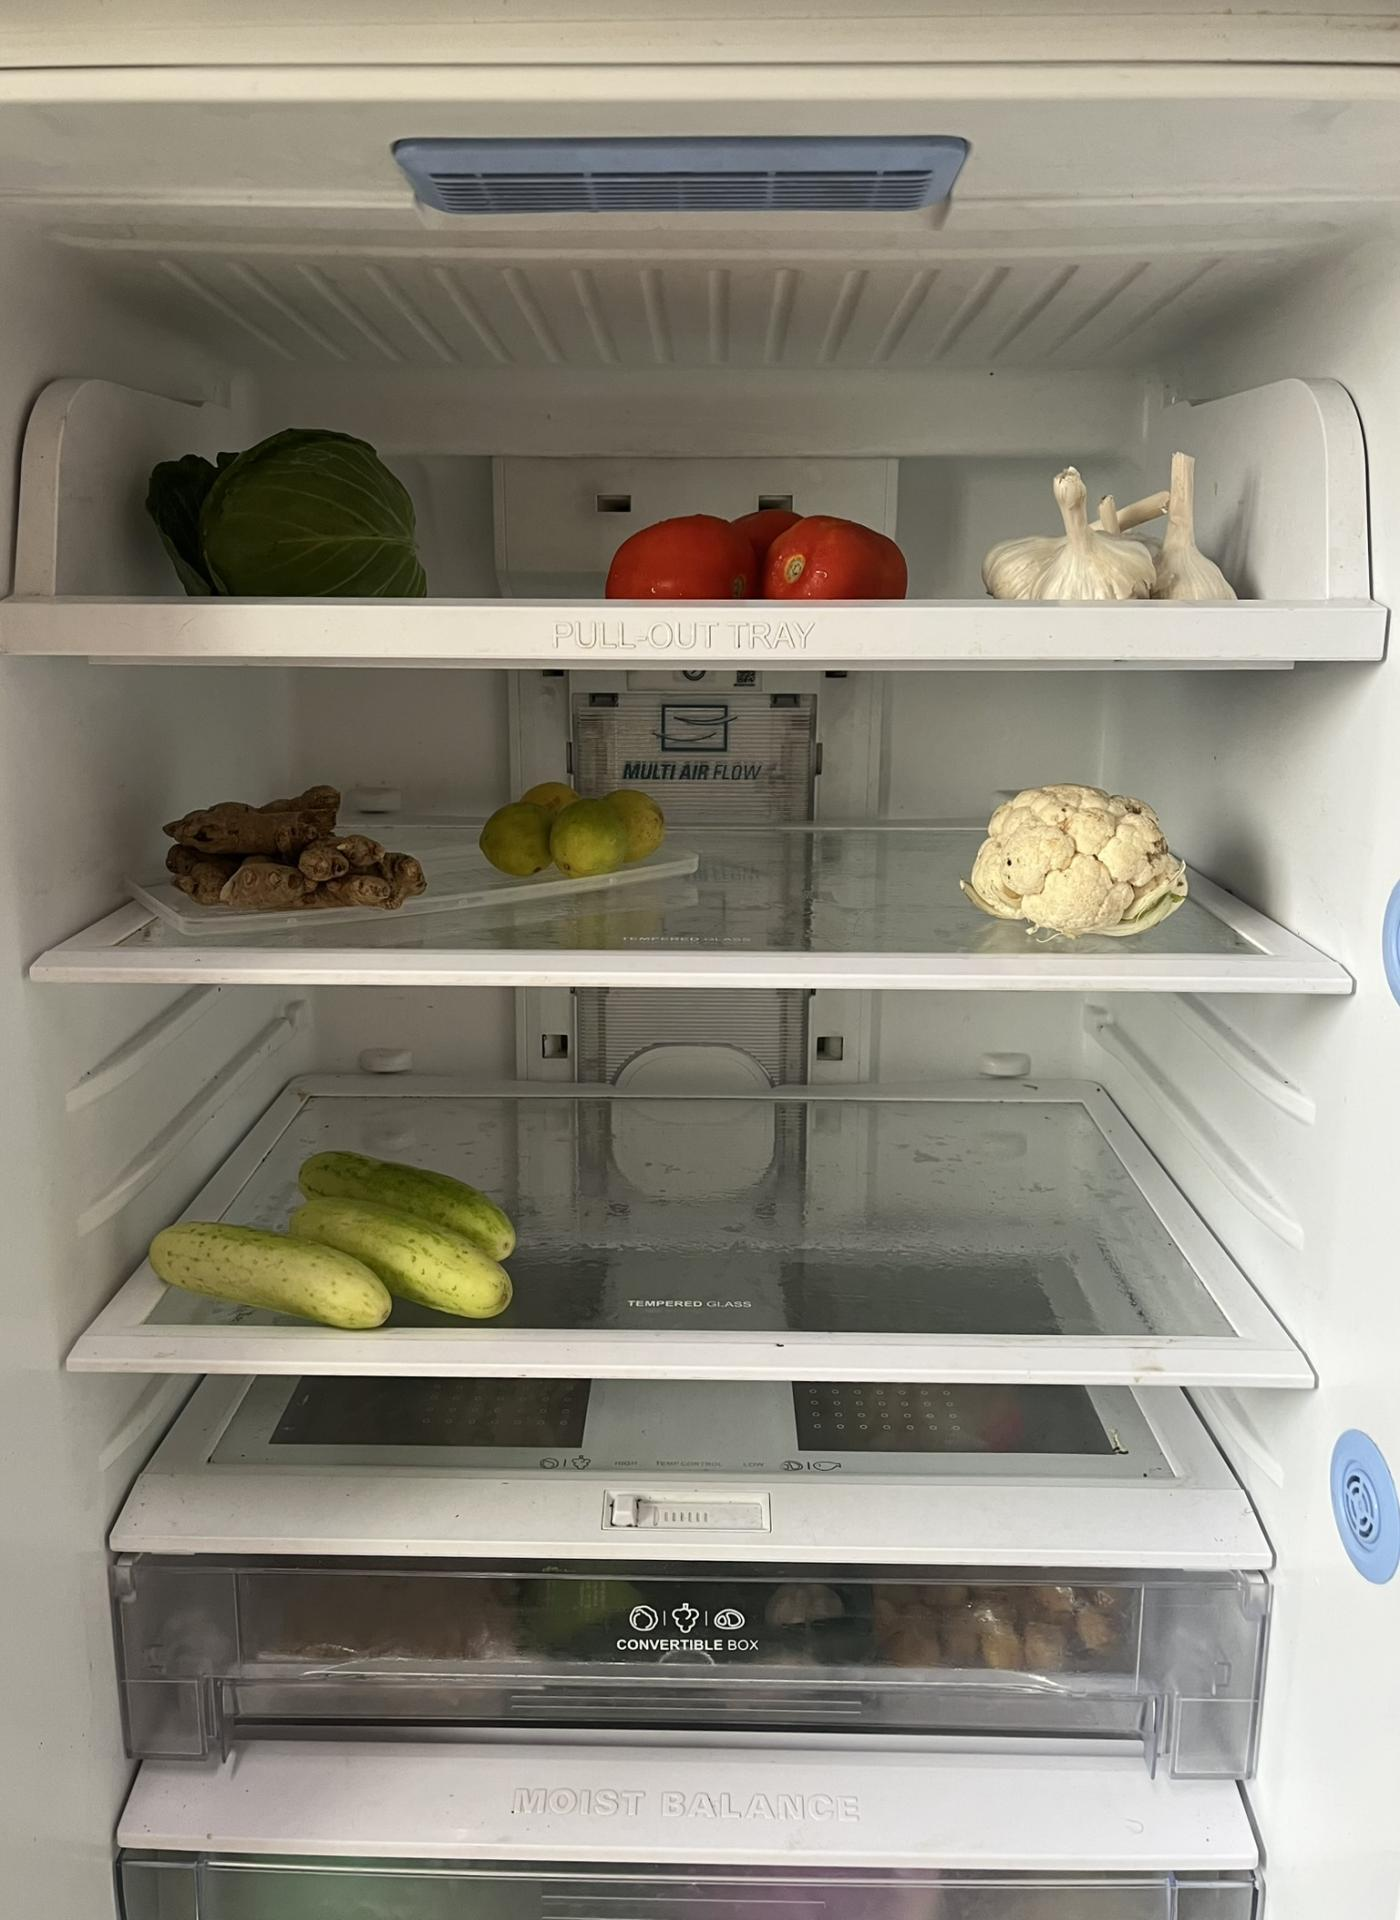cabbage: (160, 432, 423, 604)
cauliflower: (968, 780, 1179, 941)
cucumber: (145, 1151, 514, 1331)
garlic: (988, 464, 1237, 599)
ginger: (165, 783, 414, 908)
lemon: (482, 772, 662, 877)
tomato: (599, 507, 920, 602)
